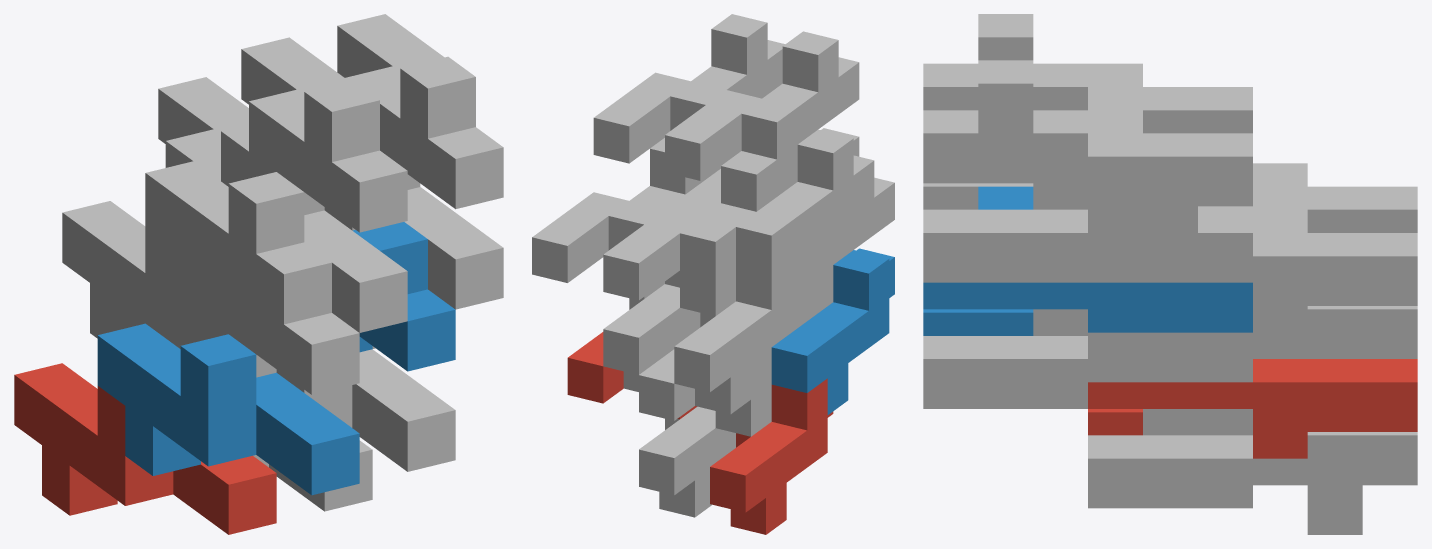
The model's file is tiling.obj.
3 renders of one model, left to right at view 1: azimuth 30°, elevation 25°; view 2: azimuth 150°, elevation 25°; view 3: azimuth 270°, elevation 25°, orthographic. The views are drawn at different scales.
Visible parts, largest first — view 1: copy_1_domain_2, copy_1_domain_4, copy_2_domain_4, copy_1_domain_1, copy_2_domain_8, copy_2_domain_2, copy_1_domain_3, copy_1_domain_6, copy_2_domain_3, copy_2_domain_6, copy_1_domain_8, copy_1_domain_5 (+1 smaller); view 2: copy_2_domain_4, copy_2_domain_3, copy_2_domain_8, copy_1_domain_2, copy_1_domain_1, copy_1_domain_3, copy_1_domain_4, copy_2_domain_7, copy_1_domain_5, copy_1_domain_7, copy_2_domain_1, copy_2_domain_2 (+2 smaller); view 3: copy_2_domain_8, copy_2_domain_7, copy_1_domain_5, copy_2_domain_5, copy_2_domain_4, copy_1_domain_7, copy_1_domain_6, copy_2_domain_6, copy_1_domain_8, copy_2_domain_3, copy_1_domain_2, copy_1_domain_4 (+1 smaller).
Boxes of the visible parts, x1,y1,x2,y2 form: copy_1_domain_2: (97,323,359,495); copy_1_domain_4: (145,161,407,332); copy_2_domain_4: (241,37,407,232); copy_1_domain_1: (14,363,276,534); copy_2_domain_8: (337,14,503,209); copy_2_domain_2: (201,242,359,394); copy_1_domain_3: (62,201,173,343); copy_1_domain_6: (276,349,455,471); copy_2_domain_3: (158,77,248,186); copy_2_domain_6: (352,222,455,371); copy_1_domain_8: (324,187,503,309); copy_1_domain_5: (253,440,372,511); copy_2_domain_4: (665,31,859,196); copy_2_domain_3: (603,151,776,316); copy_2_domain_8: (593,14,785,178); copy_1_domain_2: (771,248,894,414); copy_1_domain_1: (710,378,833,534); copy_1_domain_3: (674,258,792,414); copy_1_domain_4: (736,128,859,294); copy_2_domain_7: (532,138,705,298); copy_1_domain_5: (639,406,735,517); copy_1_domain_7: (603,271,700,391); copy_2_domain_1: (639,280,812,436); copy_2_domain_2: (812,155,894,316); copy_2_domain_8: (923,60,1252,232); copy_2_domain_7: (1088,206,1417,332); copy_1_domain_5: (1088,409,1417,534); copy_2_domain_5: (1088,359,1417,458); copy_2_domain_4: (923,14,1252,133); copy_1_domain_7: (1088,306,1417,382); copy_1_domain_6: (923,309,1197,435); copy_2_domain_6: (923,186,1252,332); copy_1_domain_8: (923,183,1252,282); copy_2_domain_3: (1253,163,1417,232); copy_1_domain_2: (923,309,1033,335); copy_1_domain_4: (923,183,1033,209).
Size of the model in its own units: 6 by 10 by 9.
